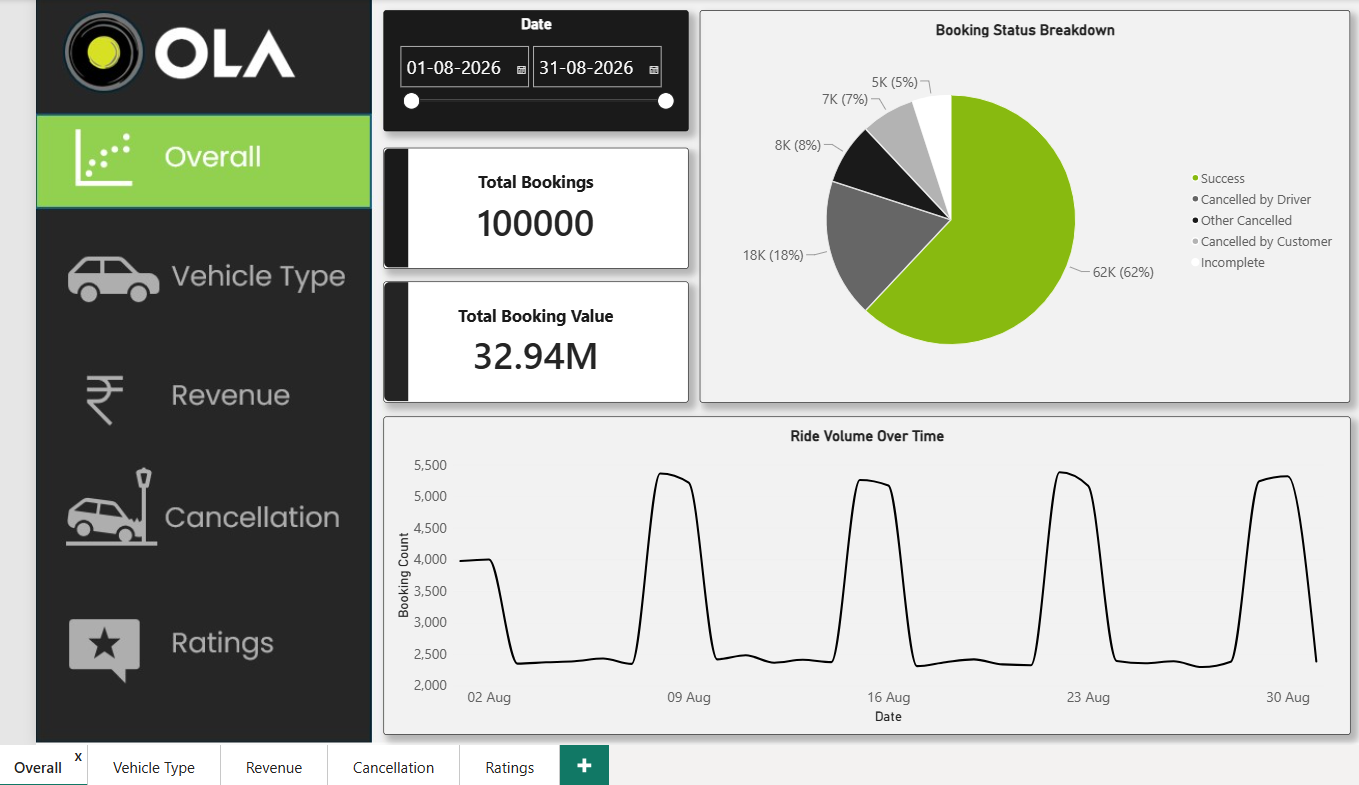

Layout of this report page (visuals, bound fields, positions):
{"tool":"powerbi","page":{"name":"Overall","canvas":[1920,1080],"ordinal":0},"visuals":[{"type":"actionButton","box":[0,333,485,130.3],"z":0},{"type":"actionButton","box":[0,512.1,485,130.3],"z":1000},{"type":"actionButton","box":[0,664.1,485,146.6],"z":2000},{"type":"actionButton","box":[0,874.1,485,130.3],"z":3000},{"type":"lineChart","title":"Ride Volume Over Time","fields":{"Y":["CountNonNull(Delhi Booking Data.Booking_ID)"],"Category":["Delhi Booking Data.Date"]},"box":[502.2,605.1,1399.7,461.1],"z":4000},{"type":"pieChart","title":"Booking Status Breakdown","fields":{"Category":["Delhi Booking Data.Booking_Status"],"Y":["CountNonNull(Delhi Booking Data.Booking_Status)"]},"box":[961,17.1,941.5,568.3],"z":5000},{"type":"slicer","title":"Date","fields":{"Values":["Delhi Booking Data.Date"]},"box":[502.4,17.1,441.5,175],"z":6000},{"type":"cardVisual","title":"Total Bookings","fields":{"Data":["CountNonNull(Delhi Booking Data.Booking_ID)"]},"box":[502.4,214.6,441.5,175],"z":7000},{"type":"cardVisual","title":"Total Bookings","fields":{"Data":["Sum(Delhi Booking Data.Booking_Value)"]},"box":[502.4,409.8,441.5,175],"z":8000}]}

Visuals, with their boxes on the page's 1920x1080 design canvas (x1, y1, x2, y2). These are canvas units, not pixel positions in the 1359x785 screenshot, which may show the page scaled, cropped or inside an application window:
actionButton: pyautogui.locateOnScreen(0, 333, 485, 463)
actionButton: pyautogui.locateOnScreen(0, 512, 485, 642)
actionButton: pyautogui.locateOnScreen(0, 664, 485, 811)
actionButton: pyautogui.locateOnScreen(0, 874, 485, 1004)
"Ride Volume Over Time" lineChart: pyautogui.locateOnScreen(502, 605, 1902, 1066)
"Booking Status Breakdown" pieChart: pyautogui.locateOnScreen(961, 17, 1902, 585)
"Date" slicer: pyautogui.locateOnScreen(502, 17, 944, 192)
"Total Bookings" cardVisual: pyautogui.locateOnScreen(502, 215, 944, 390)
"Total Bookings" cardVisual: pyautogui.locateOnScreen(502, 410, 944, 585)
